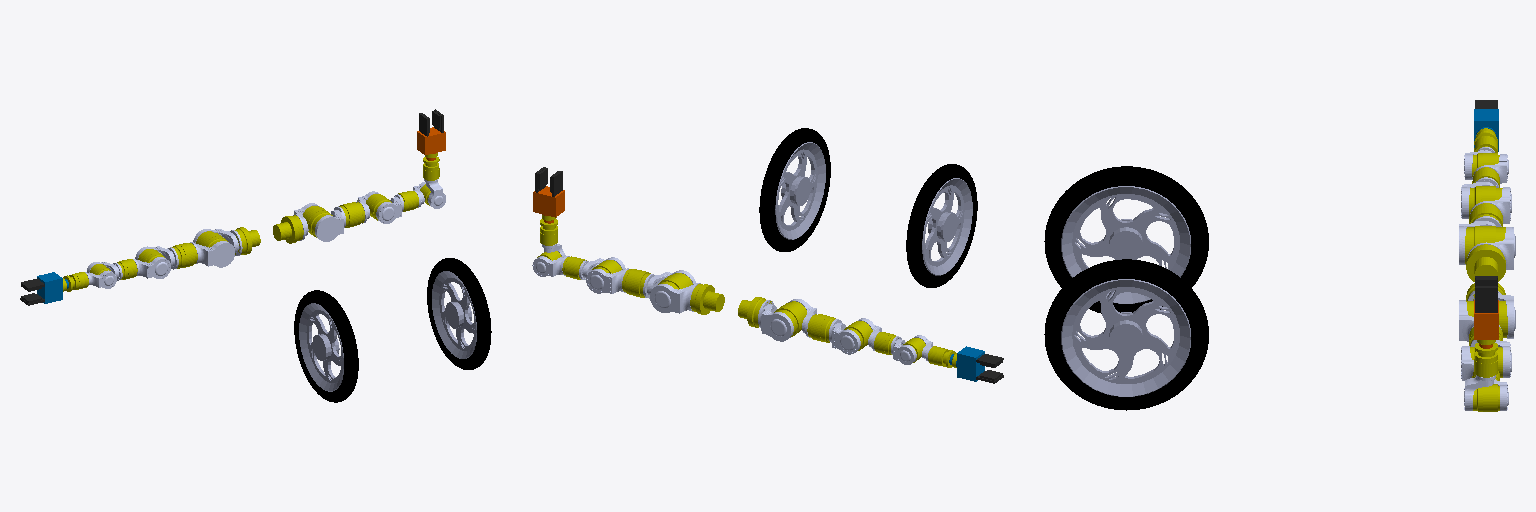
URDF robot description (Krang):
<?xml version="1.0" ?>
<!-- @file Krang.urdf -->
<!-- @author [author] -->
<!-- @date May 10, 2013 -->
<!-- @brief This file contains the .urdf definition for Krang. -->
<!-- NOTE: The center of mass locations are taken from the MassTable by summing up the -->
<!-- individual part values for the sections (which correspond to nodes here). -->
<!-- TODO: Set the center of mass locations -->
<!-- TODO: Set the correct masses. Note that the dae models have the brackets divided in two and -->
<!-- connected to the middle motor for which we do not have measurements. -->
<!-- NOTE: The bounding box values are taken by finding the min and max values of the dae files. -->

<robot name="Krang">

	<!-- Links -->

	<link name = "LWheel"> 
    <inertial>
      <mass value="4.66"/>
      <inertia ixx="0.102019" ixy="2.45462e-05" ixz="0.00713022" iyy="0.0832724" iyz="-0.00131733" izz="0.086493"/>
      <origin xyz="0 0 0"/>
    </inertial>
		<visual> <geometry> <mesh filename="Base/newwheel.dae" /> </geometry> </visual> 
		<collision> <geometry> <mesh filename="Base/newwheel.dae" /> </geometry> </collision> 
	</link>

	<link name = "RWheel"> 
    <inertial>
      <mass value="4.66"/>
      <inertia ixx="0.102019" ixy="2.45462e-05" ixz="0.00713022" iyy="0.0832724" iyz="-0.00131733" izz="0.086493"/>
      <origin xyz="0 0 0"/>
    </inertial>
		<visual> <geometry> <mesh filename="Base/newwheel.dae" /> </geometry> </visual> 
		<collision> <geometry> <mesh filename="Base/newwheel.dae" /> </geometry> </collision> 
	</link>

	<link name = "Base"> 
    <inertial>
      <mass value="81.856"/>
      <inertia ixx="0.102019" ixy="2.45462e-05" ixz="0.00713022" iyy="0.0832724" iyz="-0.00131733" izz="0.086493"/>
      <origin xyz="-0.00336451 0.107572 -0.00636184"/>
    </inertial>
		<visual> <geometry> <mesh filename="base.dae" /> </geometry> </visual> 
		<collision> <origin xyz="0.00225 0.2097395 0.006300"/> <geometry> <box size="0.7165 0.71048 0.32860"/> </geometry> </collision> 
	</link>

	<link name = "Spine"> 
    <inertial>
      <mass value="10.302"/>
      <inertia ixx="0.102019" ixy="2.45462e-05" ixz="0.00713022" iyy="0.0832724" iyz="-0.00131733" izz="0.086493"/>
			<!-- an offset of -0.02937 is added due to bad dae file and to align with base com -->
      <origin xyz="-0.02937 0.285314 0.0974926"/>
    </inertial>
		<visual> <geometry> <mesh filename="spine.dae" /> </geometry> </visual> 
		<collision> <origin xyz="-0.026 0.230150 0.053887"/> <geometry> <box size="0.2340 0.59430 0.24097"/> </geometry> </collision> 
	</link>

	<link name = "Bracket"> 
    <inertial>
      <mass value="10.17"/>
      <inertia ixx="0.102019" ixy="2.45462e-05" ixz="0.00713022" iyy="0.0832724" iyz="-0.00131733" izz="0.086493"/>
			<!-- offseted with 0.0827 because the origin of the bracket is at the bottom -->
      <origin xyz="0 0.080606 -0.00314267"/>
    </inertial>
		<visual> <geometry> <mesh filename="bracket.dae" /> </geometry> </visual> 
		<collision> <origin xyz="0.0012875 0.0582 -0.0280530"/> <geometry> <box size="0.2815 0.23 0.22611"/> </geometry> </collision> 
	</link>

	<link name = "Kinect"> 
    <inertial>
      <mass value="0.705"/>
      <inertia ixx="0.102019" ixy="2.45462e-05" ixz="0.00713022" iyy="0.0832724" iyz="-0.00131733" izz="0.086493"/>
      <origin xyz="0.0 -0.04 -0.028"/>
    </inertial>
		<visual> <geometry> <mesh filename="Kinect/Kinect.dae" /> </geometry> </visual> 
		<collision> <origin xyz="0.0 -0.0251 -0.0185"/> <geometry> <box size="0.28 0.07 0.063"/> </geometry> </collision> 
	</link>

	<link name = "L1"> 
    <inertial>
	<mass value="7.35"/>
	<inertia ixx="0.0732" ixy="-0.0006" ixz="0" iyy="0.0222" iyz="0" izz="0.0816"/>
	<origin xyz="0.0217 -0.0691 0"/>
    </inertial>
		<visual> <geometry> <mesh filename="Schunk/L1.dae" /> </geometry> </visual> 
		<collision> <origin xyz="0.015 -0.080866 0.0"/> <geometry> <box size="0.16 0.29367 0.13188"/> </geometry> </collision> 
	</link>

	<link name = "L2"> 
    <inertial>
      	<mass value="6.1405"/>
      	<inertia ixx="0.0504" ixy="0.0006" ixz="0" iyy="0.0178" iyz="0" izz="0.0579"/>
	<origin xyz="0.0269 -0.0548 0"/>
    </inertial>
		<visual> <geometry> <mesh filename="Schunk/L2.dae" /> </geometry> </visual> 
		<collision> <origin xyz="0.017042 -0.058309 0.0"/> <geometry> <box size="0.14591 0.24658 0.13"/> </geometry> </collision> 
	</link>

	<link name = "L3"> 
    <inertial>
      	<mass value="4.531"/>
      	<inertia ixx="0.0354" ixy="-0.0003" ixz="0" iyy="0.01" iyz="0" izz="0.0394"/>
	<origin xyz="0.0188 -0.00619 0"/>
    </inertial>
		<visual> <geometry> <mesh filename="Schunk/L3.dae" /> </geometry> </visual> 
		<collision> <origin xyz="0.014000 -0.075113 0.0"/> <geometry> <box size="0.13800 0.26217 0.11189"/> </geometry> </collision> 
	</link>

	<link name = "L4"> 
    <inertial>
      	<mass value="3.2245"/>
      	<inertia ixx="0.0209" ixy="0.0003" ixz="0" iyy="0.0067" iyz="0" izz="0.0239"/>
	<origin xyz="0.0238 -0.0484 0"/>
    </inertial>
		<visual> <geometry> <mesh filename="Schunk/L4.dae" /> </geometry> </visual> 
		<collision> <origin xyz="0.018200 -0.052050 0.0"/> <geometry> <box size="0.12960 0.2141 0.11"/> </geometry> </collision> 
	</link>

	<link name = "L5"> 
    <inertial>
      	<mass value="2.318"/>
      	<inertia ixx="0.012" ixy="-0.0002" ixz="0" iyy="0.0035" iyz="0" izz="0.0135"/>
	<origin xyz="0.0166 -0.0494 0"/>
    </inertial>
		<visual> <geometry> <mesh filename="Schunk/L5.dae" /> </geometry> </visual> 
		<collision> <origin xyz="0.0145115 -0.0571105 0.0000425"/> <geometry> <box size="0.117977 0.204179 0.089915"/> </geometry> </collision> 
	</link>

	<link name = "L6"> 
    <inertial>
      	<mass value="2.318"/>
      	<inertia ixx="0.0104" ixy="0" ixz="0" iyy="0.0041" iyz="0" izz="0.0125"/>
	<origin xyz="0.0232 -0.0377 0"/>
    </inertial>
		<visual> <geometry> <mesh filename="Schunk/L6.dae" /> </geometry> </visual> 
		<collision> <origin xyz="0.0175015 -0.0481615 0.0"/> <geometry> <box size="0.111977 0.185277 0.089"/> </geometry> </collision> 
	</link>

	<link name = "lGripper"> 
	    <inertial>
		<mass value="2.3838"/>
		<inertia ixx="0.0126" ixy="0" ixz="0" iyy="0.013" iyz="0" izz="0.0027"/>
				<!-- An addition of 4.05 cms from the end of Schunk gripper to space between two halves of ft -->
	      <origin xyz="0 0 0.1055"/>
	    </inertial>
		<visual> 
			<geometry> 
				<mesh filename="Schunk/L7.dae" />
			</geometry>
			<!-- <origin rpy="0 0 1.0"/>  -->
		</visual> 
		<collision> 
			<origin xyz="0.0 -0.0 -0.02615" rpy="0.0 0.0 1.5708"/> 
			<geometry> 
				<box size="0.08 0.112 0.2025"/> 
			</geometry> 
		</collision> 
	</link>

	<link name = "lgPlate1">
    <inertial> 
      <inertia ixx="0.102019" ixy="2.45462e-05" ixz="0.00713022" iyy="0.0832724" iyz="-0.00131733" izz="0.086493"/>
			<mass value="0.0001"/> </inertial>
		<visual> <geometry> <mesh filename="Schunk/gripperPlate.dae" /> </geometry> </visual>
	</link> 	

	<link name = "lgPlate2">
    <inertial> 
      <inertia ixx="0.102019" ixy="2.45462e-05" ixz="0.00713022" iyy="0.0832724" iyz="-0.00131733" izz="0.086493"/>
			<mass value="0.0001"/> </inertial>
		<visual> <geometry> <mesh filename="Schunk/gripperPlate.dae" /> </geometry> </visual>
	</link> 	

	<link name = "R1"> 
    <inertial>
	<mass value="7.35"/>
	<inertia ixx="0.0732" ixy="-0.0006" ixz="0" iyy="0.0222" iyz="0" izz="0.0816"/>
	<origin xyz="0.0217 -0.0691 0"/>
    </inertial>
		<visual> <geometry> <mesh filename="Schunk/L1.dae" /> </geometry> </visual> 
		<collision> <origin xyz="0.015 -0.080866 0.0"/> <geometry> <box size="0.16 0.29367 0.13188"/> </geometry> </collision> 
	</link>

	<link name = "R2"> 
    <inertial>
      	<mass value="6.1405"/>
      	<inertia ixx="0.0504" ixy="0.0006" ixz="0" iyy="0.0178" iyz="0" izz="0.0579"/>
	<origin xyz="0.0269 -0.0548 0"/>
    </inertial>
		<visual> <geometry> <mesh filename="Schunk/L2.dae" /> </geometry> </visual> 
		<collision> <origin xyz="0.017042 -0.058309 0.0"/> <geometry> <box size="0.14591 0.24658 0.13"/> </geometry> </collision> 
	</link>

	<link name = "R3"> 
    <inertial>
      	<mass value="4.531"/>
      	<inertia ixx="0.0354" ixy="-0.0003" ixz="0" iyy="0.01" iyz="0" izz="0.0394"/>
	<origin xyz="0.0188 -0.00619 0"/>
    </inertial>
		<visual> <geometry> <mesh filename="Schunk/L3.dae" /> </geometry> </visual> 
		<collision> <origin xyz="0.014000 -0.075113 0.0"/> <geometry> <box size="0.13800 0.26217 0.11189"/> </geometry> </collision> 
	</link>

	<link name = "R4"> 
    <inertial>
      	<mass value="3.2245"/>
      	<inertia ixx="0.0209" ixy="0.0003" ixz="0" iyy="0.0067" iyz="0" izz="0.0239"/>
	<origin xyz="0.0238 -0.0484 0"/>
    </inertial>
		<visual> <geometry> <mesh filename="Schunk/L4.dae" /> </geometry> </visual> 
		<collision> <origin xyz="0.018200 -0.052050 0.0"/> <geometry> <box size="0.12960 0.2141 0.11"/> </geometry> </collision> 
	</link>

	<link name = "R5"> 
    <inertial>
      	<mass value="2.318"/>
      	<inertia ixx="0.012" ixy="-0.0002" ixz="0" iyy="0.0035" iyz="0" izz="0.0135"/>
	<origin xyz="0.0166 -0.0494 0"/>
    </inertial>
		<visual> <geometry> <mesh filename="Schunk/L5.dae" /> </geometry> </visual> 
		<collision> <origin xyz="0.0145115 -0.0571105 0.0000425"/> <geometry> <box size="0.117977 0.204179 0.089915"/> </geometry> </collision> 
	</link>

	<link name = "R6"> 
    <inertial>
      	<mass value="2.318"/>
      	<inertia ixx="0.0104" ixy="0" ixz="0" iyy="0.0041" iyz="0" izz="0.0125"/>
	<origin xyz="0.0232 -0.0377 0"/>
    </inertial>
		<visual> <geometry> <mesh filename="Schunk/L6.dae" /> </geometry> </visual> 
		<collision> <origin xyz="0.0175015 -0.0481615 0.0"/> <geometry> <box size="0.111977 0.185277 0.089"/> </geometry> </collision> 
	</link>

	<link name = "rGripper"> 
    <inertial>
     	<mass value="2.3838"/>
	<inertia ixx="0.0126" ixy="0" ixz="0" iyy="0.013" iyz="0" izz="0.0027"/>
			<!-- An addition of 4.05 cms from the end of Schunk gripper to space between two halves of ft -->
      <origin xyz="0 0 0.1055"/>
    </inertial>
		<visual> <geometry> <mesh filename="Schunk/L7.dae" /> </geometry> </visual> 
		<collision> <origin xyz="0.0 -0.0 0.02615" rpy="0.0 0.0 1.5708"/> <geometry> <box size="0.08 0.112 0.2025"/> </geometry> </collision> 
	</link>

	<link name = "rgPlate1">
    <inertial> 
      <inertia ixx="0.102019" ixy="2.45462e-05" ixz="0.00713022" iyy="0.0832724" iyz="-0.00131733" izz="0.086493"/>
			<mass value="0.0001"/> </inertial>
		<visual> <geometry> <mesh filename="Schunk/gripperPlate.dae" /> </geometry> </visual>
	</link> 	

	<link name = "rgPlate2">
    <inertial> 
      <inertia ixx="0.102019" ixy="2.45462e-05" ixz="0.00713022" iyy="0.0832724" iyz="-0.00131733" izz="0.086493"/>
			<mass value="0.0001"/> </inertial>
		<visual> <geometry> <mesh filename="Schunk/gripperPlate.dae" /> </geometry> </visual>
	</link> 	


	<!-- ======================================================================================================== -->
	<!-- ============================================ Joints ==================================================== -->
	<!-- ======================================================================================================== -->

	<joint name="JLWheel" type="revolute"> <parent link="Base" /> <child link="LWheel" />
		<origin xyz = "-0.354 0.0 0" rpy="0 0 0" />
		<axis xyz="1 0 0" /> <limit effort="1000" lower="-3.1416" upper="3.1416" velocity="0.1" />
	</joint>

	<joint name="JRWheel" type="revolute"> <parent link="Base" /> <child link="RWheel" />
		<origin xyz = "0.361 0.0 0" rpy="0 0 0" />
		<axis xyz="1 0 0" /> <limit effort="1000" lower="-3.1416" upper="3.1416" velocity="0.1" />
	</joint>

	<joint name="JWaist" type="revolute"> <parent link="Base" /> <child link="Spine" />
		<origin xyz = "0.026 0.499 -0.091" rpy="0 0 0" />
		<axis xyz="-1 0 0" /> <limit effort="1000" lower="0" upper="2.7" velocity="0.1" />
	</joint>

	<joint name="JTorso" type="revolute"> <parent link="Spine" /> <child link="Bracket" />
		<origin xyz = "-0.0285 0.584 0.1088" rpy="0 3.1416 0" /> 
		<axis xyz="0 -1 0" /> <limit effort="1000" lower="-0.8" upper="0.8" velocity="0.1" />
	</joint>

	<joint name="JKinect" type="revolute"> <parent link="Bracket" /> <child link="Kinect" />
		<origin xyz = "-0.001 0.1805 -0.1120" rpy="3.1416 0 0" />
		<axis xyz="1 0 0" /> <limit effort="1000" lower="-3.1416" upper="3.1416" velocity="0.1" />
	</joint>

	<!-- =================== Left Arm =================== -->
	<!-- ================================================ -->

	<joint name="LJ1" type="revolute"> <parent link="Bracket" /> <child link="L1" />
		<origin xyz = "0.2823 0.0845 0" rpy="0 3.1416 -1.5708" />
		<axis xyz="0 -1 0" /> <limit effort="1000" lower="-3.1416" upper="3.1416" velocity="0.1" />
	</joint>

	<joint name="LJ2" type="revolute"> <parent link="L1" /> <child link="L2" />
		<origin xyz="0 0.0 0" rpy="3.14 3.14 0" />
		<axis xyz="-1 0 0" /> <limit effort="1000" lower="-2.094" upper="2.094" velocity="0.1" />
	</joint>

	<joint name="LJ3" type="revolute"> <parent link="L2" /> <child link="L3" />
		<origin xyz="0 -0.328 0" rpy="-3.1416 -3.1416 0" />
		<axis xyz="0 -1 0" /> <limit effort="1000" lower="-4.7124" upper="4.7124" velocity="0.1" />
	</joint>

	<joint name="LJ4" type="revolute"> <parent link="L3" /> <child link="L4" />
		<origin xyz="0 0 0" rpy="3.1416 3.1416 0" />
		<axis xyz="-1 0 0" /> <limit effort="1000" lower="-2.094" upper="2.094" velocity="0.1" />
	</joint>

	<joint name="LJ5" type="revolute"> <parent link="L4" /> <child link="L5" />
		<origin xyz="0 -0.2765 0" rpy="3.1416 3.1416 0" />
		<axis xyz="0 -1 0" /> <limit effort="1000" lower="-4.7124" upper="4.7124" velocity="0.1" />
	</joint>

	<joint name="LJ6" type="revolute"> <parent link="L5" /> <child link="L6" />
		<origin xyz="0 0 0" rpy="0 0 3.1416" />
		<axis xyz="-1 0 0" /> <limit effort="1000" lower="-2.094" upper="2.094" velocity="0.1" />
	</joint>

	<!-- For some reason, I had to negate the axis to make sure the motor turns like the others -->
	<joint name="LJFT" type="revolute"> <parent link="L6" /> <child link="lGripper" />
		<origin xyz="0 -0.200 0" rpy="1.5708 4.7124 0" />
		<axis xyz="0 0 -1" /> <limit effort="1000" lower="-4.7124" upper="4.7124" velocity="0.1" />
	</joint>

	<joint name="LMotorPlate1" type="fixed"> <parent link="lGripper" /> <child link="lgPlate1" />
		<origin xyz="-0.045 0.0 0.127" rpy="3.1416 0 0" />
		<axis xyz="1 0 0" /> <limit effort="1000" lower="0.0" upper="0.022" velocity="0.1" />
	</joint>

	<joint name="LMotorPlate2" type="fixed"> <parent link="lGripper" /> <child link="lgPlate2" />
		<origin xyz="0.045 0.000 0.127" rpy="3.1416 0 3.1416" />
		<axis xyz="1 0 0" /> <limit effort="1000" lower="0.0" upper="0.022" velocity="0.1" />
	</joint>

	<!-- =================== Right Arm ================== -->
	<!-- ================================================ -->

	<joint name="RJ1" type="revolute"> <parent link="Bracket" /> <child link="R1" />
		<origin xyz = "-0.2823 0.0845 0" rpy="0 0 1.5708" />
		<axis xyz="0 -1 0" /> <limit effort="1000" lower="-4.7124" upper="4.7124" velocity="0.1" />
	</joint>

	<joint name="RJ2" type="revolute"> <parent link="R1" /> <child link="R2" />
		<origin xyz="0 0.0 0" rpy="3.14 3.14 0" />
		<axis xyz="-1 0 0" /> <limit effort="1000" lower="-2.094" upper="2.094" velocity="0.1" />
	</joint>

	<joint name="RJ3" type="revolute"> <parent link="R2" /> <child link="R3" />
		<origin xyz="0 -0.328 0" rpy="-3.1416 -3.1416 0" />
		<axis xyz="0 -1 0" /> <limit effort="1000" lower="-4.7124" upper="4.7124" velocity="0.1" />
	</joint>

	<joint name="RJ4" type="revolute"> <parent link="R3" /> <child link="R4" />
		<origin xyz="0 0 0" rpy="-3.1416 3.1416 0" />
		<axis xyz="-1 0 0" /> <limit effort="1000" lower="-2.094" upper="2.094" velocity="0.1" />
	</joint>

	<joint name="RJ5" type="revolute"> <parent link="R4" /> <child link="R5" />
		<origin xyz="0 -0.2765 0" rpy="3.1416 3.1416 0" />
		<axis xyz="0 -1 0" /> <limit effort="1000" lower="-4.7124" upper="4.7124" velocity="0.1" />
	</joint>

	<joint name="RJ6" type="revolute"> <parent link="R5" /> <child link="R6" />
		<origin xyz="0 0 0" rpy="1.5708 0 3.1416" />
		<axis xyz="-1 0 0" /> <limit effort="1000" lower="-2.094" upper="2.094" velocity="0.1" />
	</joint>

	<joint name="RJFT" type="revolute"> <parent link="R6" /> <child link="rGripper" />
		<origin xyz="0 -0.200 0" rpy="1.5708 4.7124 0" />
		<axis xyz="0 0 -1" /> <limit effort="1000" lower="-4.7124" upper="4.7124" velocity="0.1" />
	</joint>

	<joint name="RMotorPlate1" type="fixed"> <parent link="rGripper" /> <child link="rgPlate1" />
		<origin xyz="-0.045 0.0 0.127" rpy="3.1416 0 0" />
		<axis xyz="1 0 0" /> <limit effort="1000" lower="0.0" upper="0.022" velocity="0.1" />
	</joint>

	<joint name="RMotorPlate2" type="fixed"> <parent link="rGripper" /> <child link="rgPlate2" />
		<origin xyz="0.045 0.000 0.127" rpy="3.1416 0 3.1416" />
		<axis xyz="1 0 0" /> <limit effort="1000" lower="0.0" upper="0.022" velocity="0.1" />
	</joint>

</robot>

--- What the picture shows (computed from the rendered views, not written in the file) ---
Views: 3 orthographic renders of the robot side by side, from view 1: azimuth 30°, elevation 25°; view 2: azimuth 150°, elevation 25°; view 3: azimuth 270°, elevation 25°.
Model Krang with 24 links and 23 joints (19 revolute, 4 fixed), rooted at Base, posed every joint at zero.
Visible links, largest first — view 1: LWheel, RWheel, R2, L2, R1, L1, R4, lGripper, rGripper, L4, L3, R6 (+1 smaller); view 2: RWheel, LWheel, R1, L1, L3, R3, rGripper, lGripper, R2, L5, R5, L2 (+1 smaller); view 3: RWheel, LWheel, L1, L2, rGripper, R6, L4, R1, L3, lGripper, R5, L6 (+4 smaller).
Boxes of the visible links, box(x1,y1,x2,y2) form: LWheel: box(294, 290, 358, 402); RWheel: box(427, 258, 491, 369); R2: box(308, 203, 358, 241); L2: box(179, 236, 234, 267); R1: box(273, 203, 327, 243); L1: box(193, 227, 260, 255); R4: box(371, 191, 413, 223); lGripper: box(37, 272, 79, 303); rGripper: box(417, 127, 445, 170); L4: box(122, 253, 170, 278); L3: box(135, 245, 185, 269); R6: box(423, 168, 445, 208); RWheel: box(759, 128, 830, 251); LWheel: box(906, 164, 977, 287); R1: box(650, 276, 724, 314); L1: box(738, 297, 803, 341); L3: box(820, 316, 869, 354); R3: box(586, 262, 636, 294); rGripper: box(533, 186, 564, 234); lGripper: box(938, 346, 984, 381); R2: box(629, 270, 695, 298); L5: box(884, 334, 922, 364); R5: box(532, 252, 573, 276); L2: box(785, 299, 827, 341); RWheel: box(1044, 259, 1208, 410); LWheel: box(1044, 166, 1208, 313); L1: box(1466, 226, 1515, 281); L2: box(1459, 207, 1502, 264); rGripper: box(1474, 300, 1498, 363); R6: box(1464, 359, 1497, 411); L4: box(1461, 170, 1499, 218); R1: box(1466, 283, 1515, 338); L3: box(1469, 186, 1511, 223); lGripper: box(1474, 109, 1498, 151); R5: box(1474, 375, 1508, 411); L6: box(1464, 138, 1497, 179).
Size in the robot's own frame: 2.25 by 1.53 by 0.7015 metres.
Meshes: 13 distinct files referenced, 20 mesh visuals loaded (9 Collada DAE); not drawn: 1 (reference not matched to a file when rendering), 3 (file found but could not be loaded).